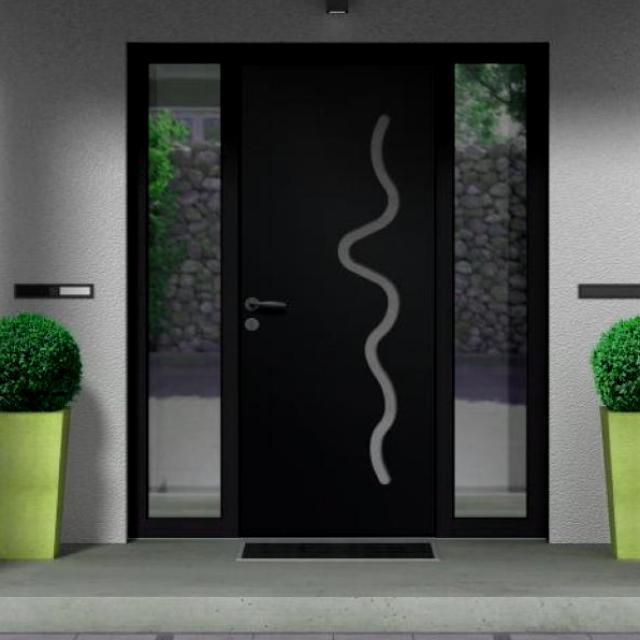door: (205, 20, 451, 539)
